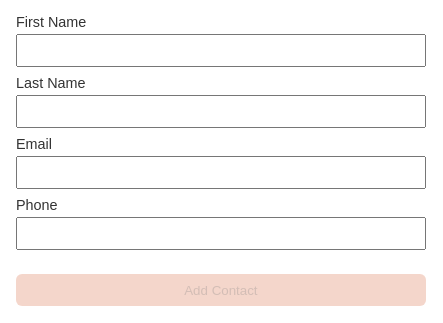
MyForm component › Phone number is automatically formatted
In the field labelled "Phone": (221, 234) [16,217,426,250], type "9172242246"
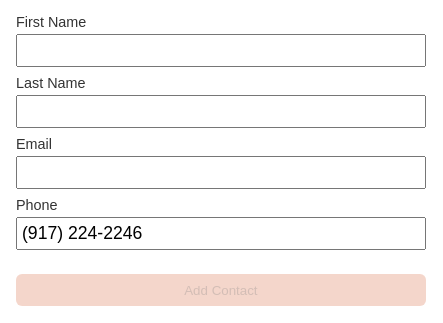
expect the field labelled "Phone" holds "(917) 224-2246": met, box [16,217,426,250]
